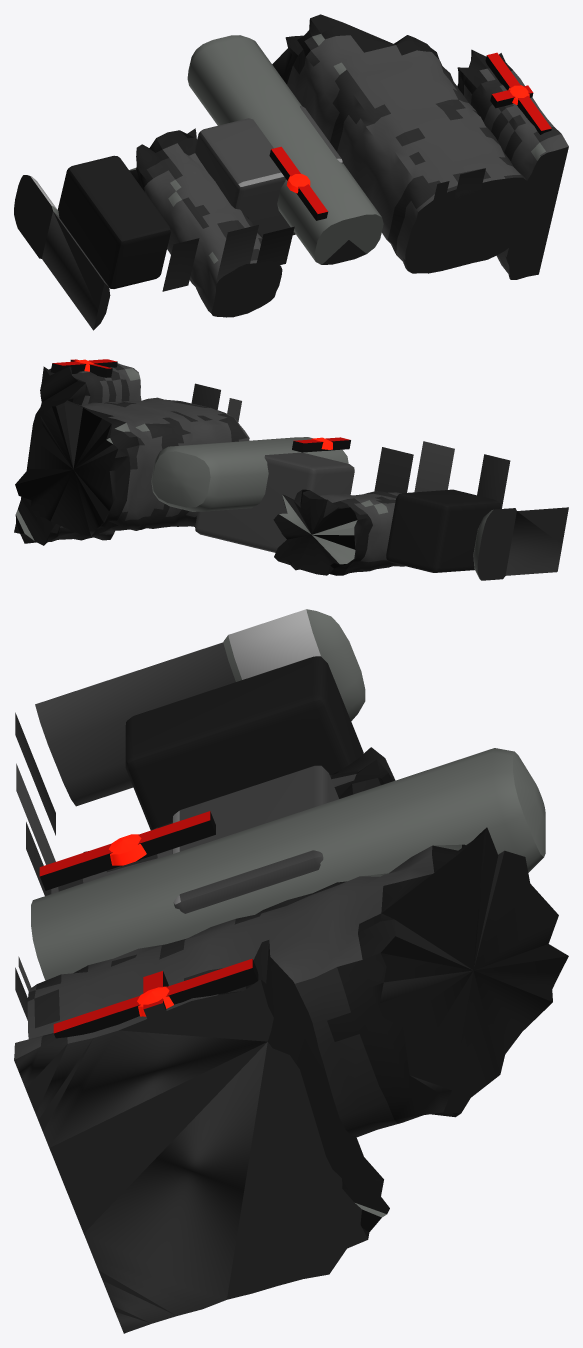
File: deli_tower_9.glb
3 renders of one model, top to bottom at view 1: azimuth 30°, elevation 25°; view 2: azimuth 150°, elevation 25°; view 3: azimuth 270°, elevation 25°, orthographic. The views are drawn at different scales.
Parts seen in each view (by area): view 1: deli_tower_9; view 2: deli_tower_9; view 3: deli_tower_9.
Part boxes in pixels (bbox=[...]): deli_tower_9: bbox=[14, 14, 568, 330]; deli_tower_9: bbox=[14, 359, 568, 580]; deli_tower_9: bbox=[14, 609, 568, 1333].
Bounding box in the file's own units: 24 × 10.85 × 13.8.
